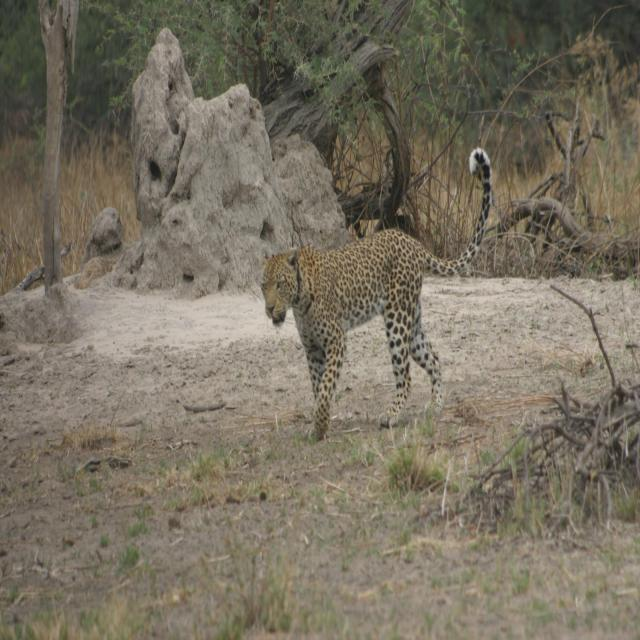Leopard: (251, 198, 491, 436)
